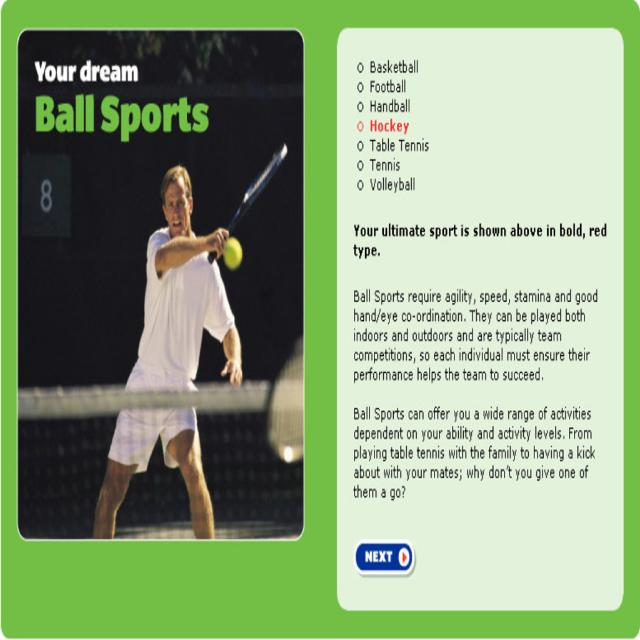Tennis ball: (222, 234, 242, 274)
